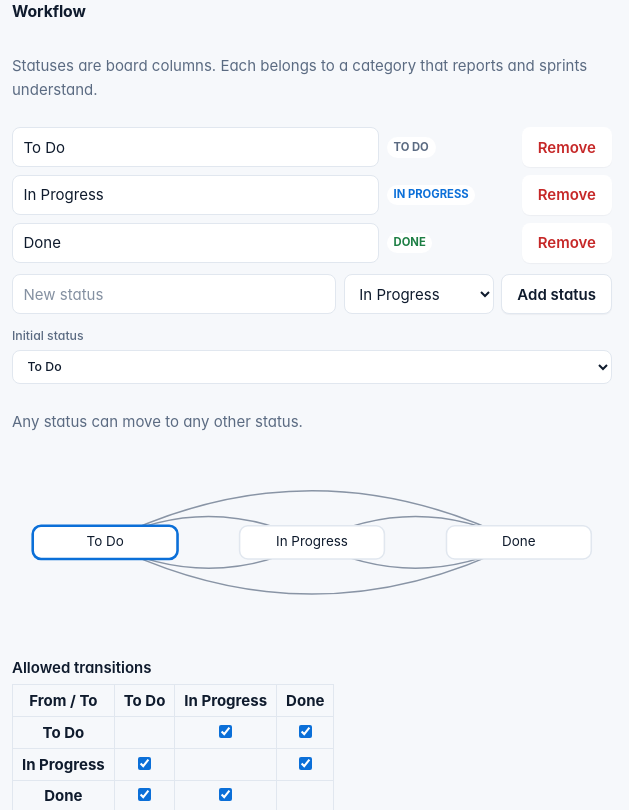
Test case: WorkflowEditor (KYB-S43) › removes a status and shows the server's refusal
Click the button with aria-label "Remove In Progress": (567, 195) 522,175 -> 612,215
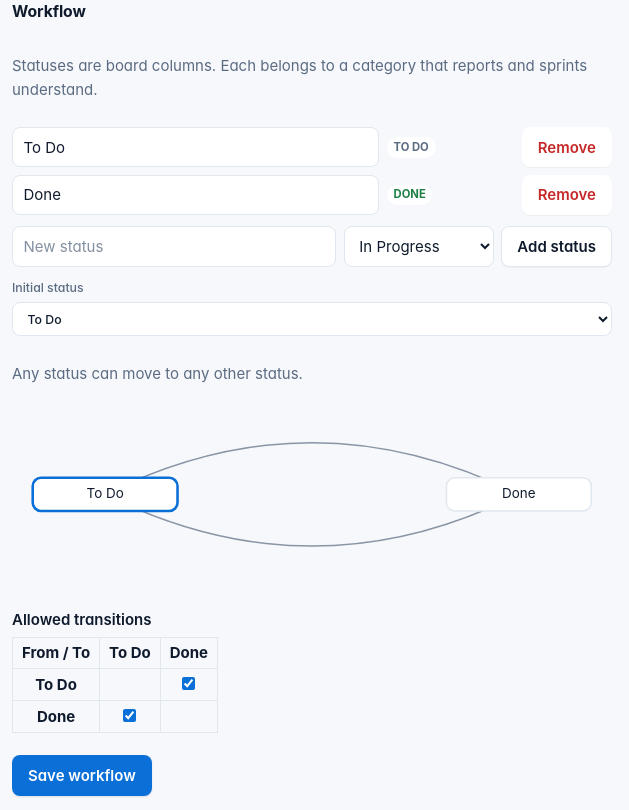
Click the button "Save workflow": (82, 776) 12,756 -> 152,796
(page scrolled)
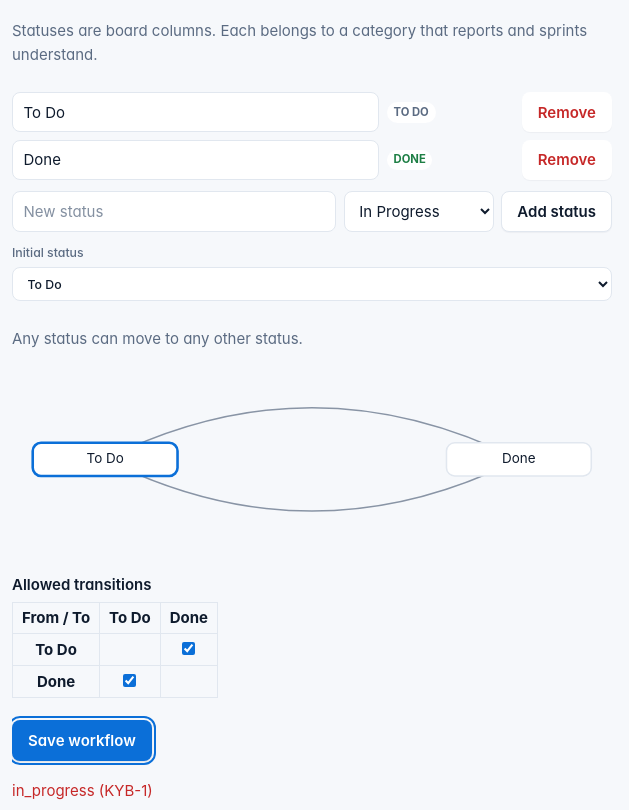
Result: the message reads "in_progress (KYB-1)" at 12,782 -> 153,800
